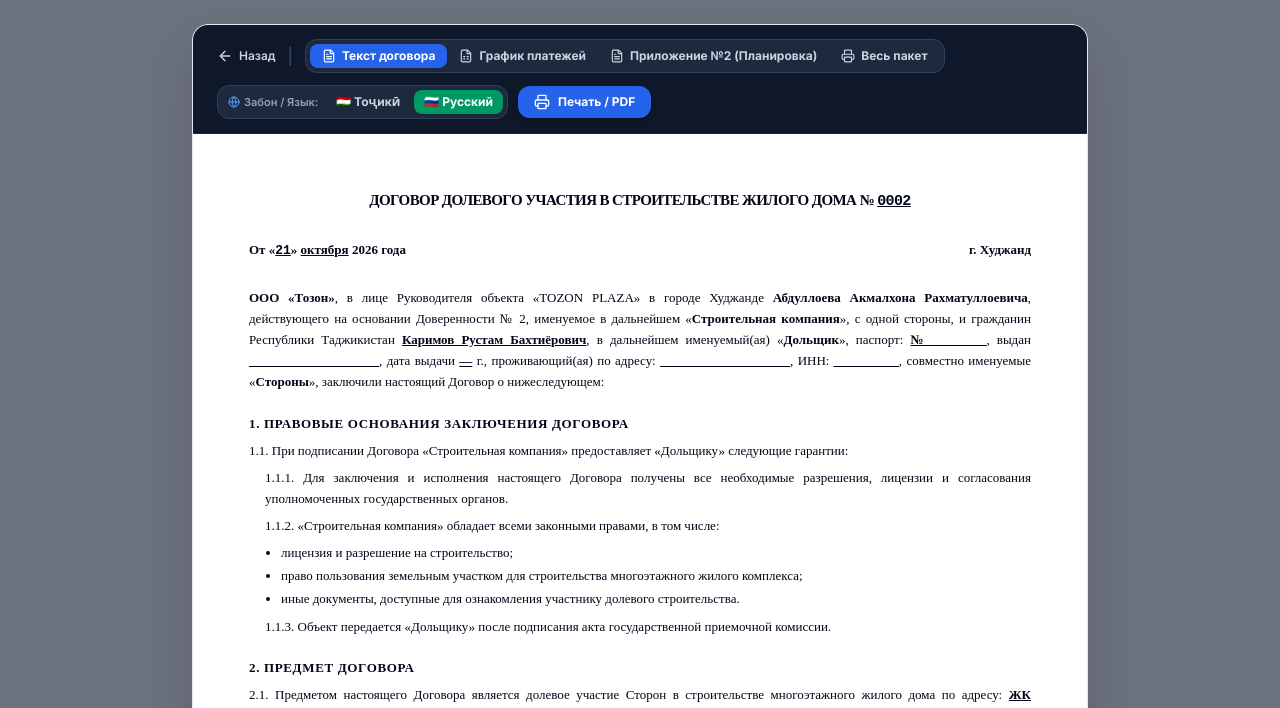
it: ContractPrintView Annex 2 (Приложение №2 — Планировка квартиры) › shows clear warning when apartment plan is missing rather than inventing mock plans
What coordinates should you click on to do the following:
click the button "Приложение №2 (Планировка)"
I would click on:
 (714, 56)
Its box is [598,44,829,68].
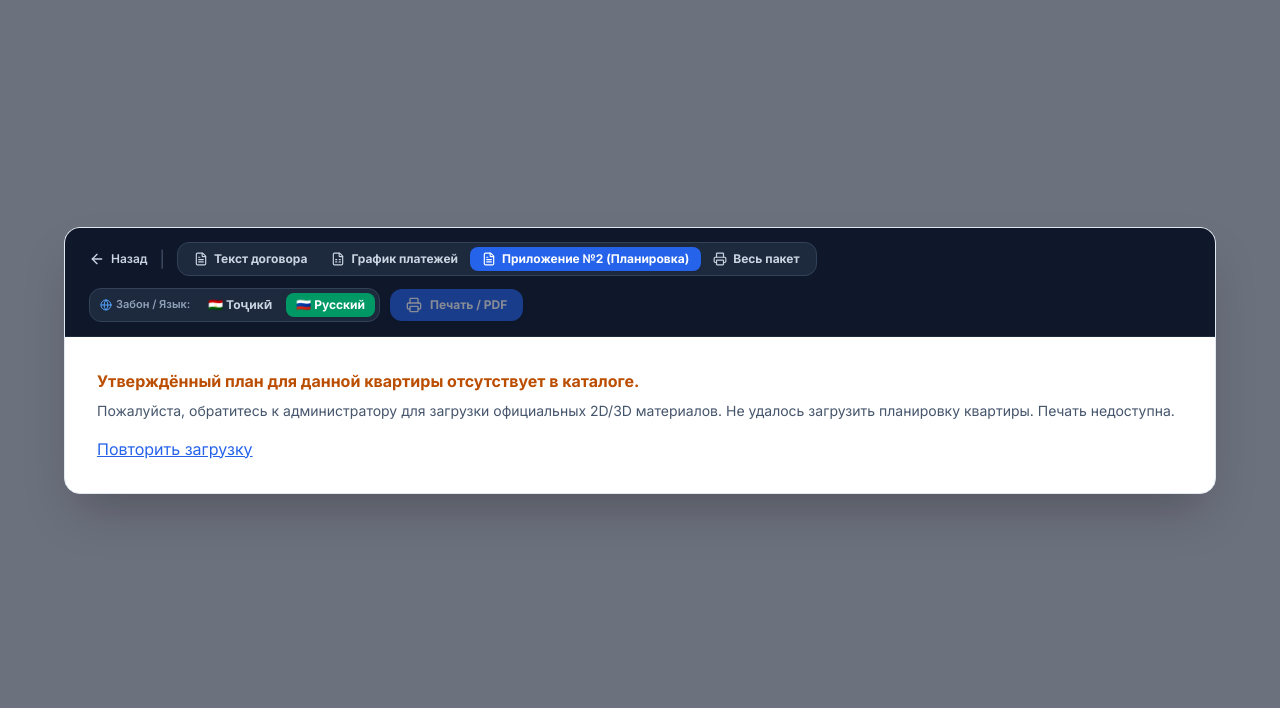
Expected: the message shows "Утверждённый план для данной квартиры отсутствует в каталоге", [97,370,639,390]
Expected: the message shows "Пожалуйста, обратитесь к администратору для загрузки официальных 2D/3D материалов", [97,402,1175,418]
